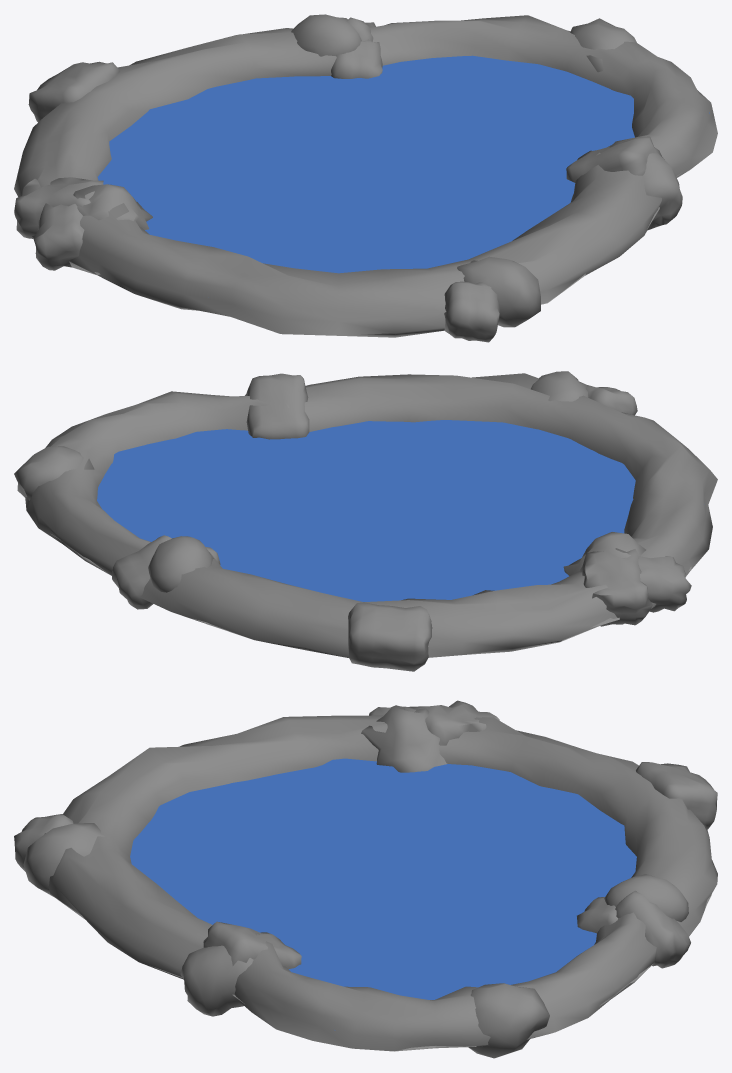
Rendered from pond.fbx.
The picture shows the model from 3 angles, top to bottom: view 1: azimuth 30°, elevation 25°; view 2: azimuth 150°, elevation 25°; view 3: azimuth 270°, elevation 25°; orthographic projection. The views are drawn at different scales.
Parts seen in each view (by area): view 1: Plane_1; view 2: Plane_1; view 3: Plane_1.
Part boxes in pixels (x1,y1,x2,y2): Plane_1: (14, 14, 717, 342); Plane_1: (14, 371, 717, 671); Plane_1: (14, 700, 717, 1058).
Size of the model in its own units: 1462 by 174 by 1337.
